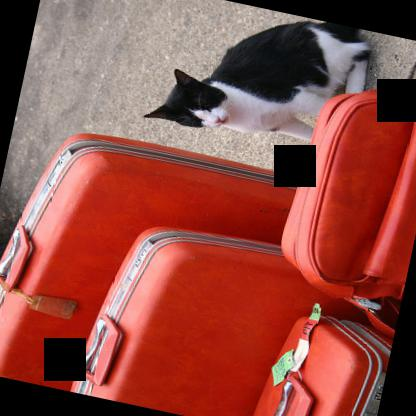suitcase: (0, 131, 298, 391), (68, 224, 369, 416), (281, 85, 416, 335), (253, 310, 393, 416)
